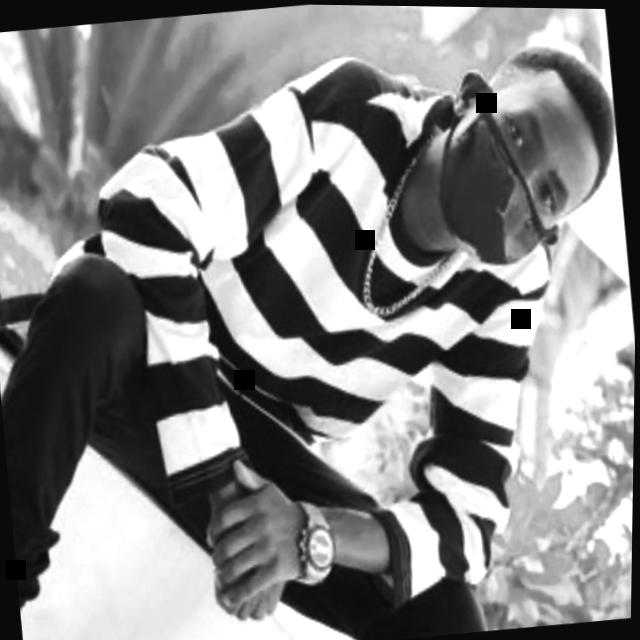Mask: (427, 59, 609, 273)
